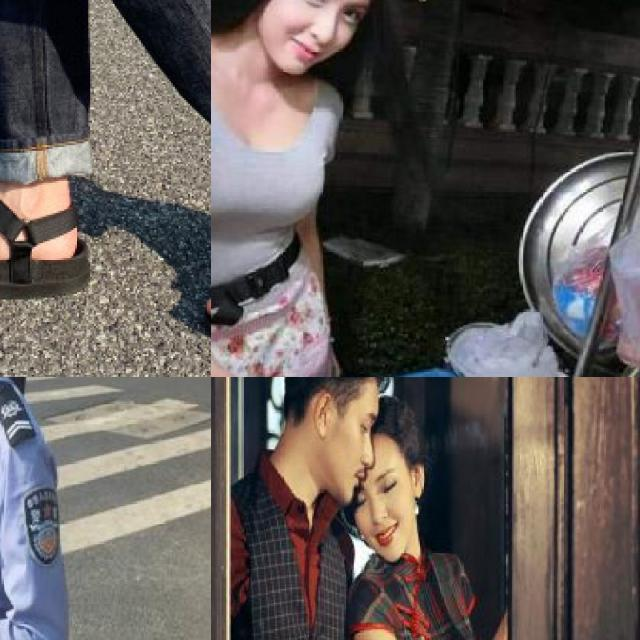No_Ear-Protection: (310, 391, 333, 440)
No_Glasses: (291, 0, 369, 36)
Sandals: (0, 176, 91, 306)
face_nomask: (301, 377, 379, 499), (257, 0, 360, 83), (357, 468, 420, 562)
head_nohelmet: (346, 418, 428, 464), (292, 377, 387, 399)
person: (211, 0, 422, 377), (335, 401, 544, 640), (211, 377, 380, 640), (0, 377, 87, 640)
